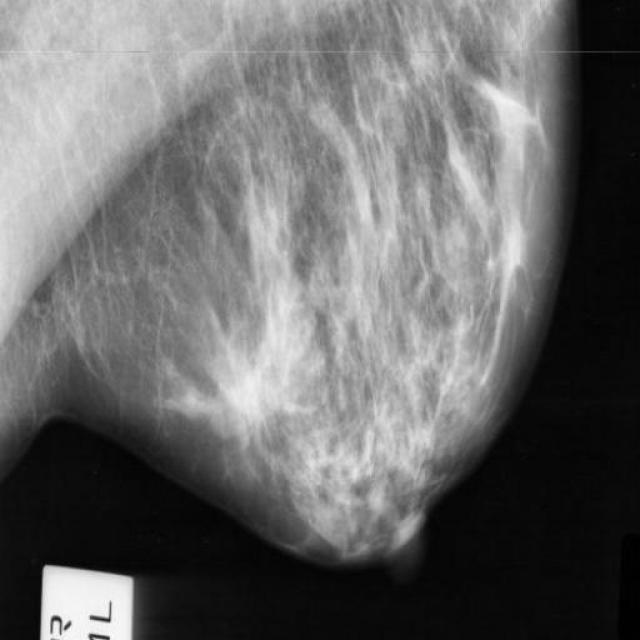cancer: (218, 139, 312, 300)
